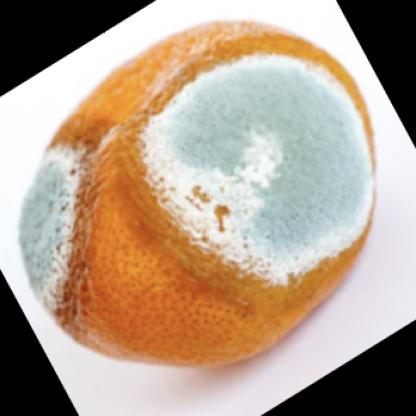rotten_orange: (4, 19, 381, 359)
